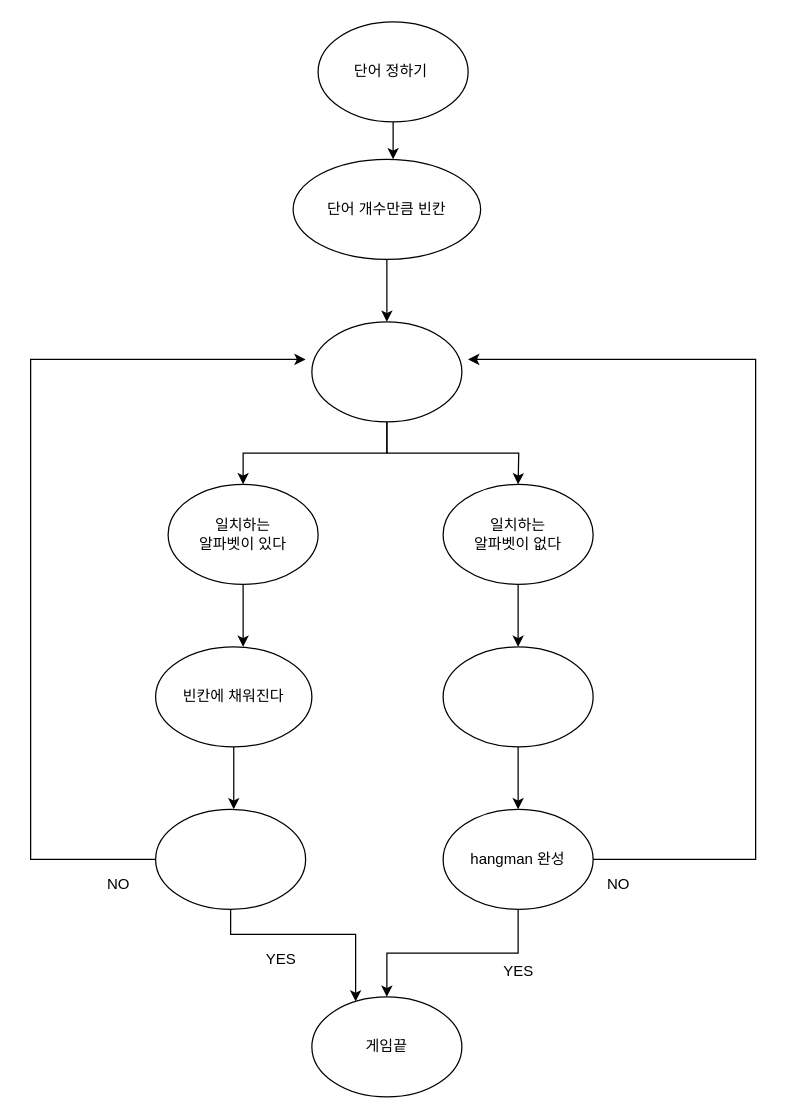
Image size: 788x1119. Some labels were removed from this diagram. Each missing label, with the centre of its shape:
hang: point (517, 696)
빈칸이 다 채워졌는가: point (230, 858)
알파벳을 입력: point (386, 371)
